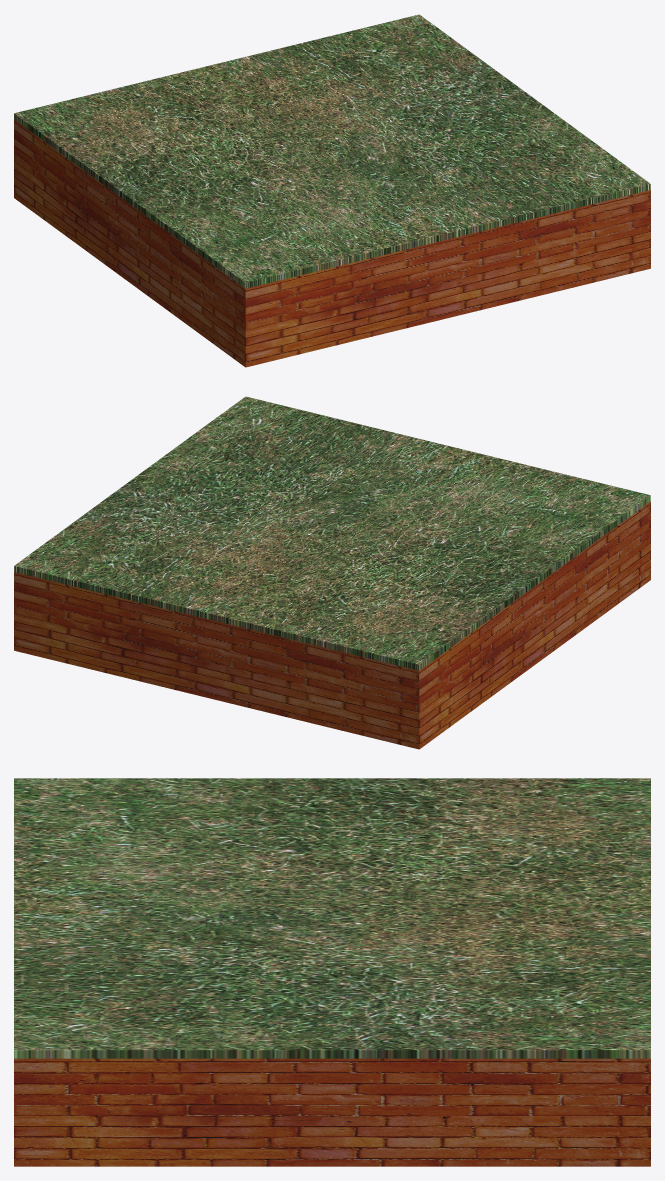
The model's file is floer.fbx.
3 renders of one model, top to bottom at view 1: azimuth 30°, elevation 25°; view 2: azimuth 150°, elevation 25°; view 3: azimuth 270°, elevation 25°, orthographic. The views are drawn at different scales.
Visible parts, largest first — view 1: Box001; view 2: Box001; view 3: Box001.
Part boxes in pixels (left/top/right/bottom): Box001: left=14, top=14, right=650, bottom=367; Box001: left=14, top=396, right=650, bottom=749; Box001: left=14, top=778, right=650, bottom=1166.
Bounding box in the file's own units: 105 × 104 × 20.94.
3 materials, 2 textured.
